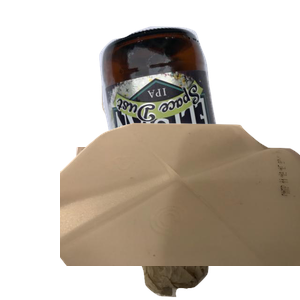glass: (97, 24, 300, 204)
metal: (99, 68, 244, 184)
plastic: (60, 120, 300, 300)
trash: (73, 147, 300, 300)
